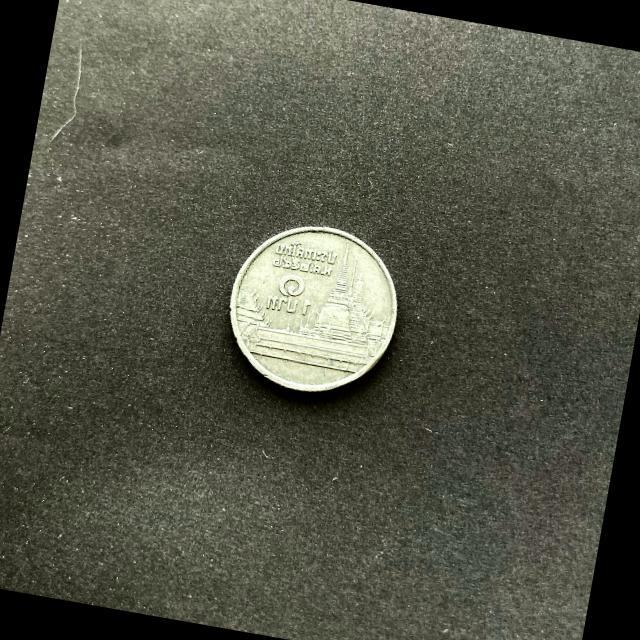1 Bath: (228, 221, 404, 394)
